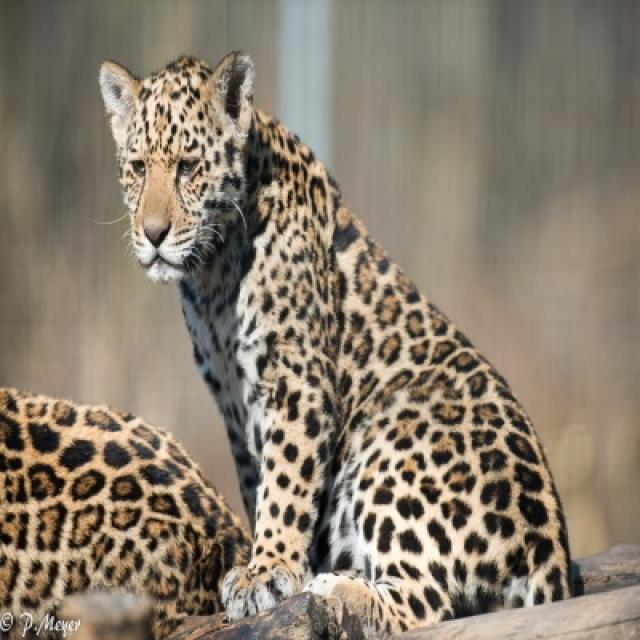Jaguar: (96, 53, 579, 637), (0, 387, 251, 638)
